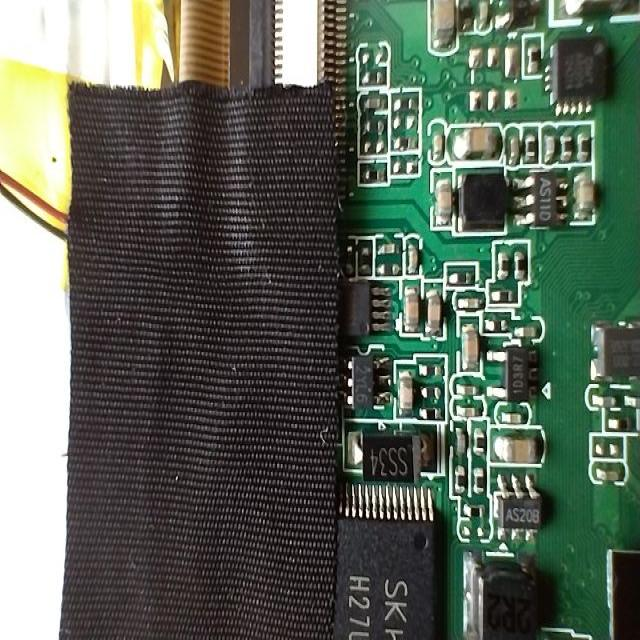capacitor: (485, 418, 566, 476), (442, 118, 507, 172), (389, 354, 427, 440), (449, 311, 490, 381), (424, 278, 454, 343), (394, 282, 424, 343)
resistor: (516, 34, 550, 84), (506, 242, 540, 286), (492, 248, 514, 302), (573, 126, 599, 170), (468, 455, 490, 501), (449, 449, 469, 498)
